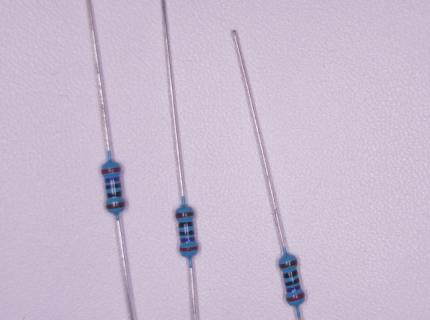Black band: (285, 277, 299, 286), (284, 269, 297, 278), (106, 191, 122, 198), (105, 183, 121, 189), (178, 222, 193, 227), (180, 230, 194, 235)
Brown band: (279, 259, 297, 268), (106, 202, 125, 209), (176, 212, 194, 218)
Red band: (287, 292, 305, 302), (101, 166, 120, 174), (180, 246, 198, 252)
Violet band: (287, 285, 301, 293), (105, 176, 120, 183), (180, 237, 195, 243)
